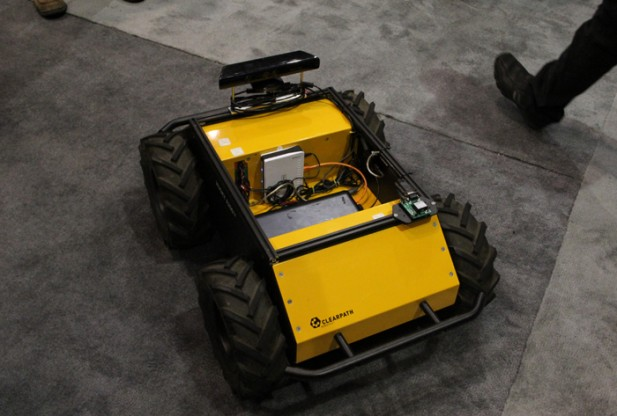husky: (138, 49, 501, 414)
